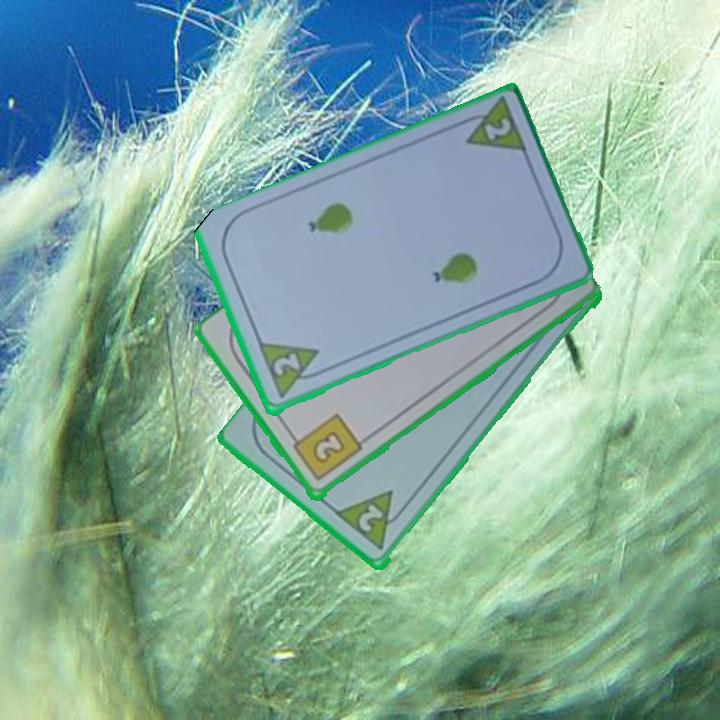2b: (286, 411, 365, 485)
2p: (255, 339, 329, 403), (354, 501, 387, 536), (480, 115, 514, 144)
